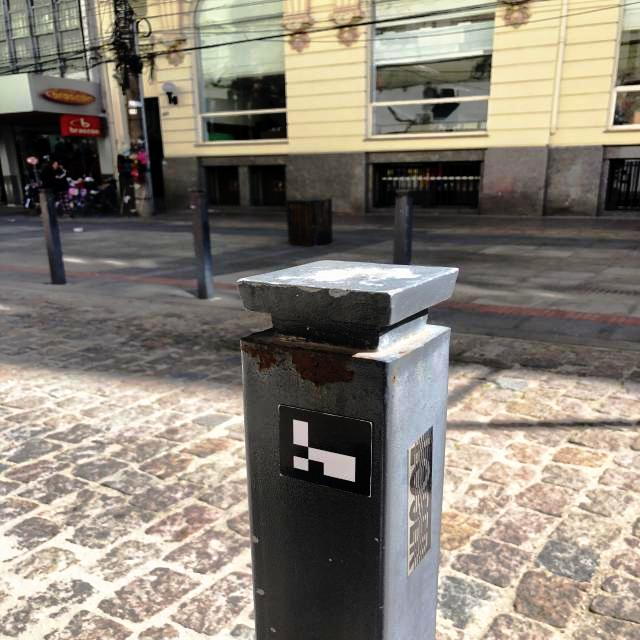Corrosion: (242, 337, 376, 385), (241, 341, 276, 371), (398, 350, 411, 355), (262, 329, 272, 332), (393, 376, 396, 380)
